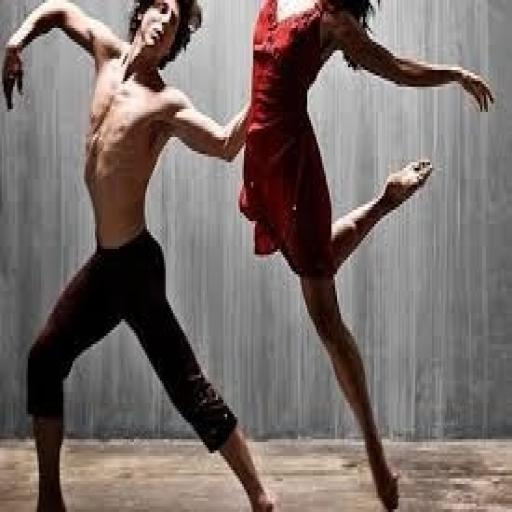dancing: (0, 0, 279, 509), (237, 0, 497, 509)
